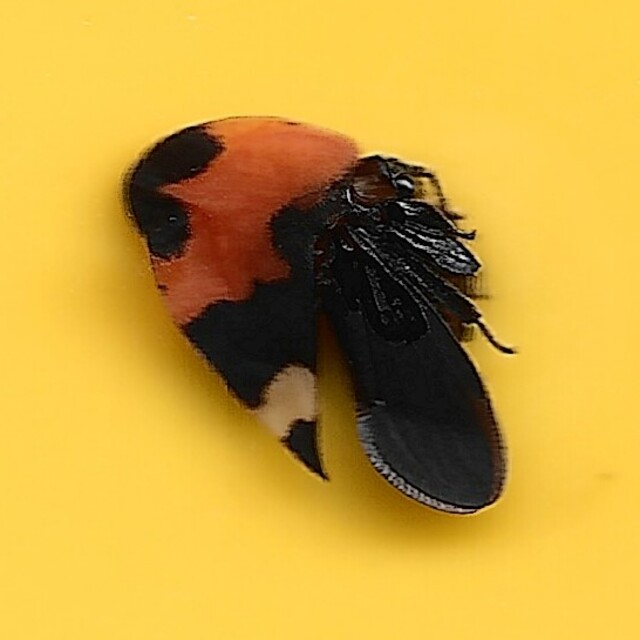Hemiptera: (117, 111, 523, 529)
